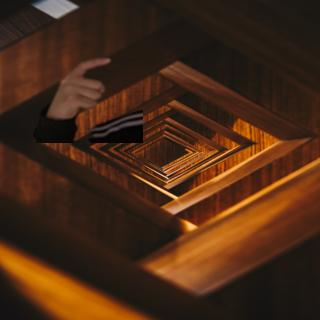WHY: (46, 51, 119, 121)
